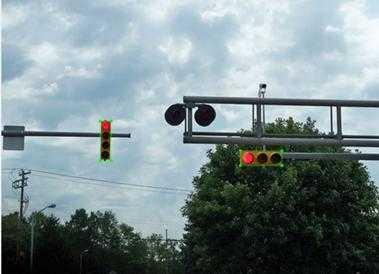red: (240, 150, 284, 167), (99, 119, 111, 164)
